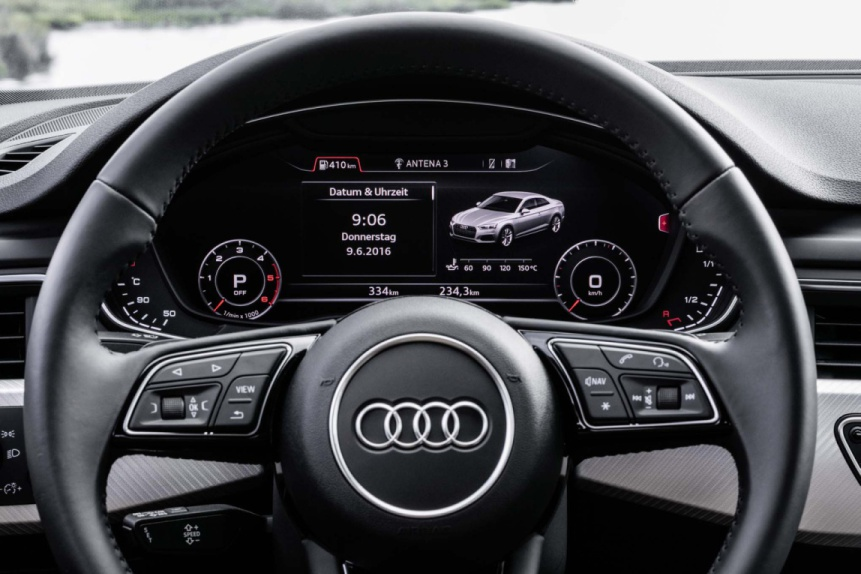audi: (348, 397, 494, 458)
